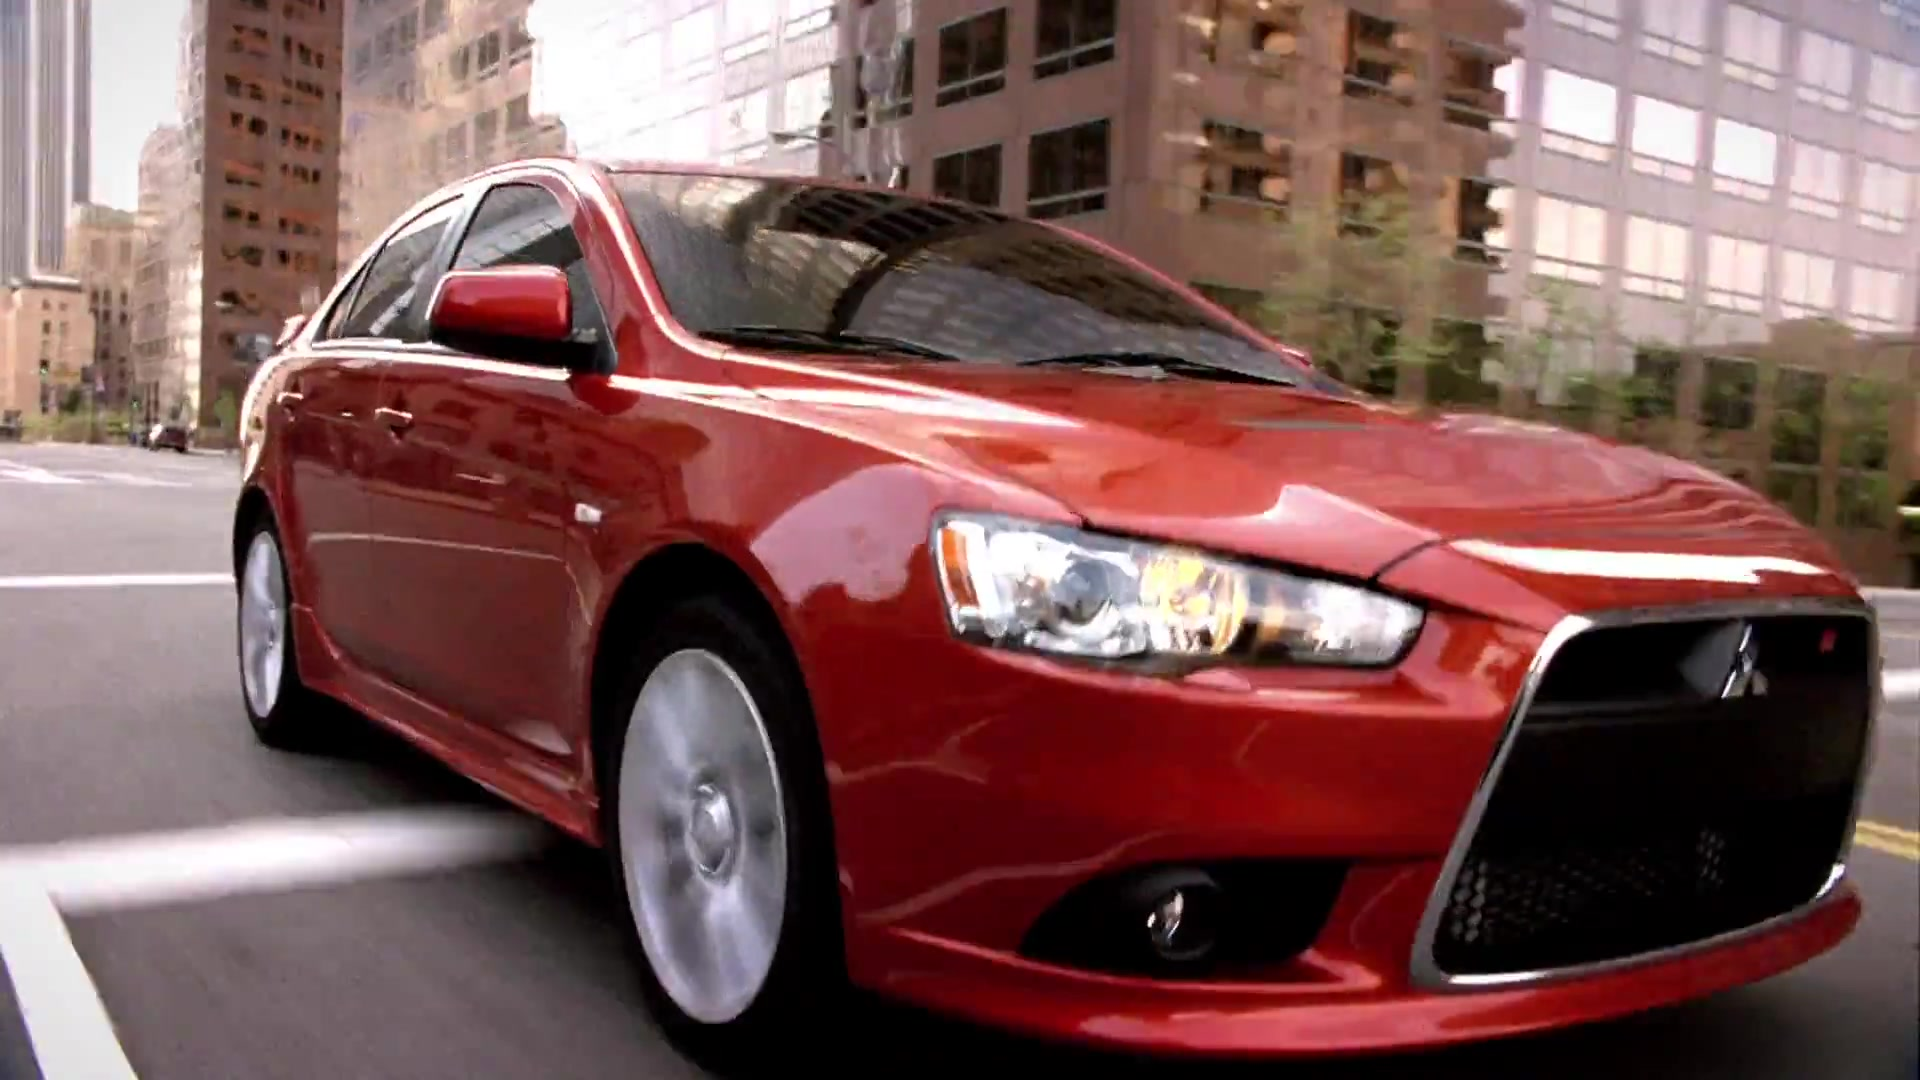car: (225, 154, 1891, 1080)
